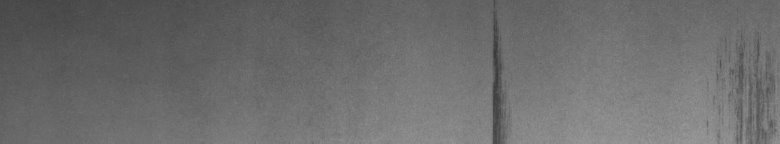ka: (706, 36, 776, 136)
